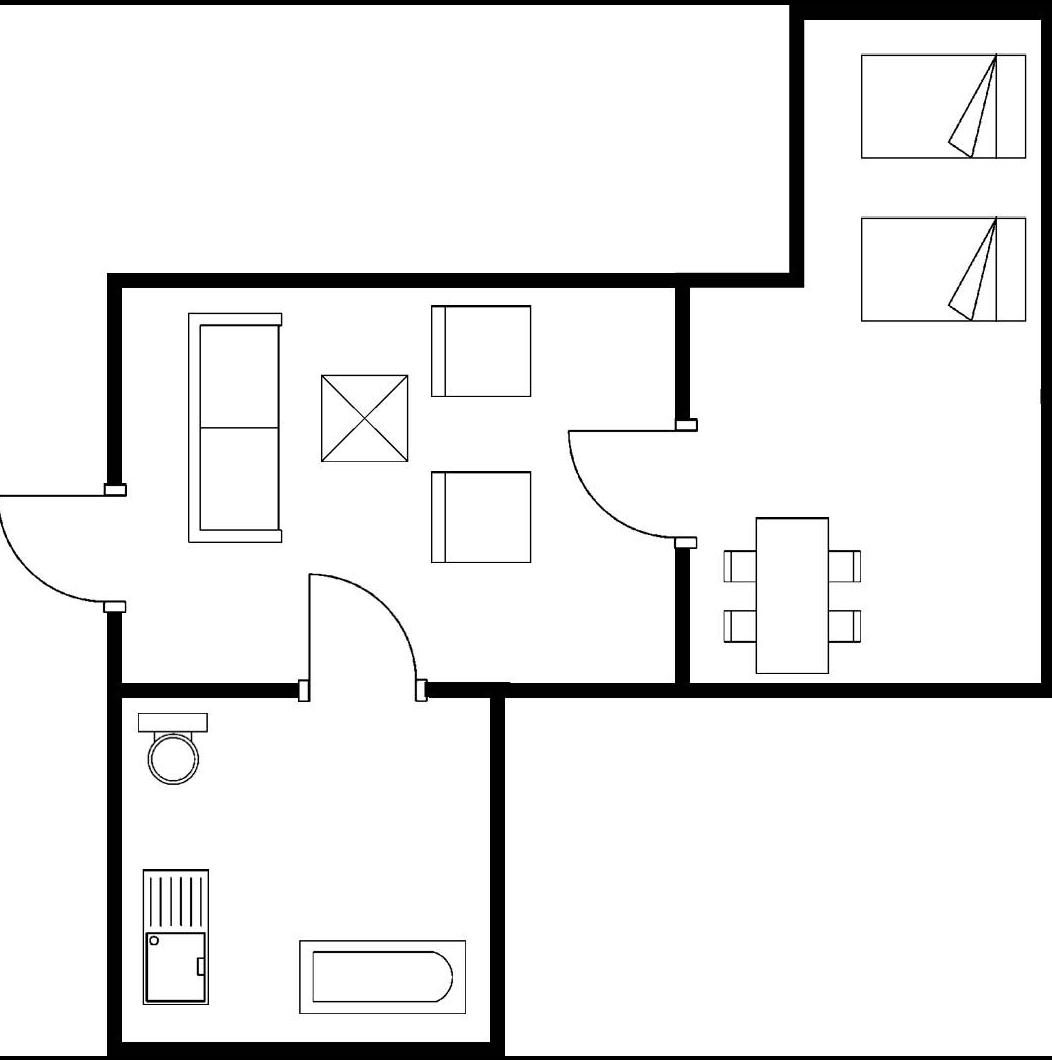bed: (852, 41, 1033, 163), (853, 206, 1032, 329)
dining_table: (714, 507, 868, 678)
sink: (133, 856, 217, 1008)
sofa: (181, 304, 289, 552)
toilet: (130, 705, 219, 791)
tub: (291, 929, 474, 1019)
